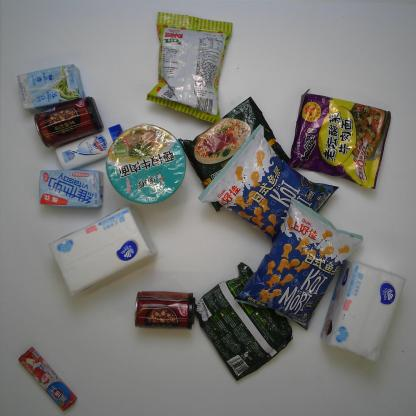Candy: (18, 346, 78, 412)
Canned Food: (34, 95, 104, 149), (133, 289, 197, 332)
Instant Noodles: (177, 96, 290, 214), (194, 261, 294, 382), (288, 88, 392, 191), (105, 123, 187, 206)
Milk: (16, 62, 86, 115), (38, 169, 105, 208)
Personal Hygiene: (54, 123, 124, 171)
Puffed Food: (197, 122, 340, 247), (233, 195, 364, 331), (144, 10, 233, 124)
Tissue: (47, 202, 159, 296), (319, 258, 407, 364)
